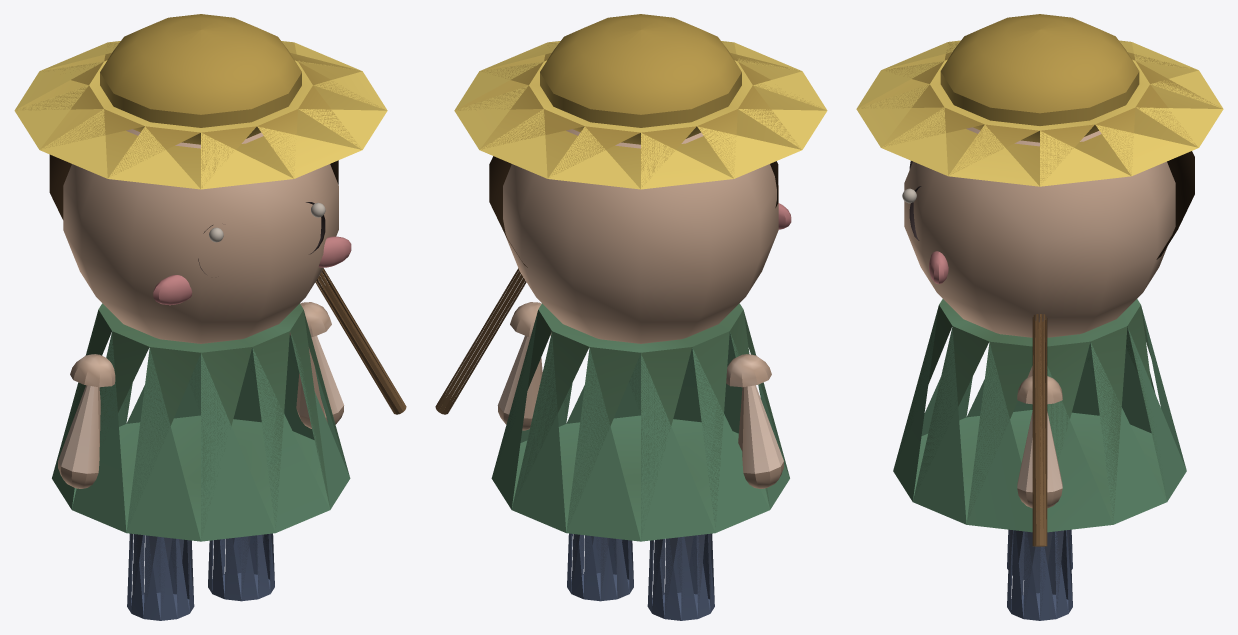
The picture shows the model from 3 angles, left to right: view 1: azimuth 30°, elevation 25°; view 2: azimuth 150°, elevation 25°; view 3: azimuth 270°, elevation 25°; orthographic projection.
Parts seen in each view (by area): view 1: pet_p8833bd9b; view 2: pet_p8833bd9b; view 3: pet_p8833bd9b.
Boxes of the visible parts, x1,y1,x2,y2 form: pet_p8833bd9b: (14, 14, 406, 620); pet_p8833bd9b: (435, 14, 827, 620); pet_p8833bd9b: (856, 14, 1223, 620).
Bounding box in the file's own units: 0.4529 × 0.6705 × 0.4.
